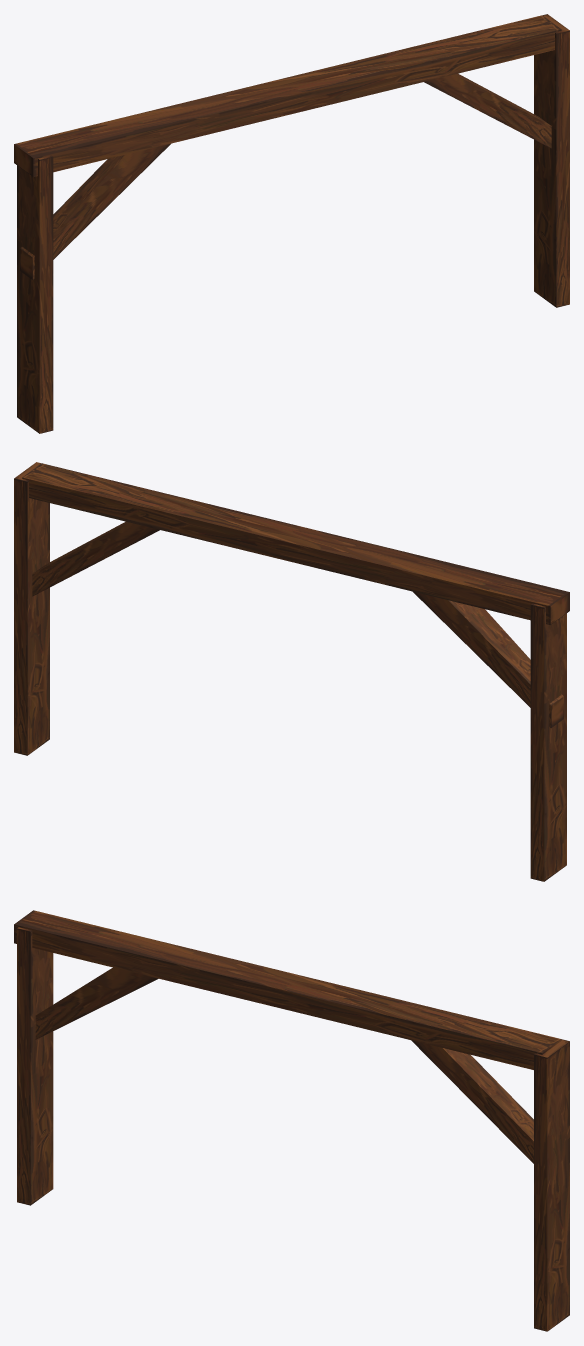
The model's file is e_tower_arc.fbx.
3 views of the same model, one above another, from view 1: azimuth 30°, elevation 25°; view 2: azimuth 150°, elevation 25°; view 3: azimuth 330°, elevation 25° (orthographic).
Parts seen in each view (by area): view 1: polySurface1861; view 2: polySurface1861; view 3: polySurface1861.
Part boxes in pixels (x1=…): polySurface1861: x1=14, y1=14, x2=569, y2=433; polySurface1861: x1=14, y1=462, x2=569, y2=881; polySurface1861: x1=14, y1=910, x2=569, y2=1331.
Bounding box in the file's own units: 5.1 × 2.51 × 0.3719.
